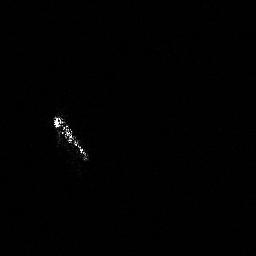ship: (50, 113, 92, 164)
